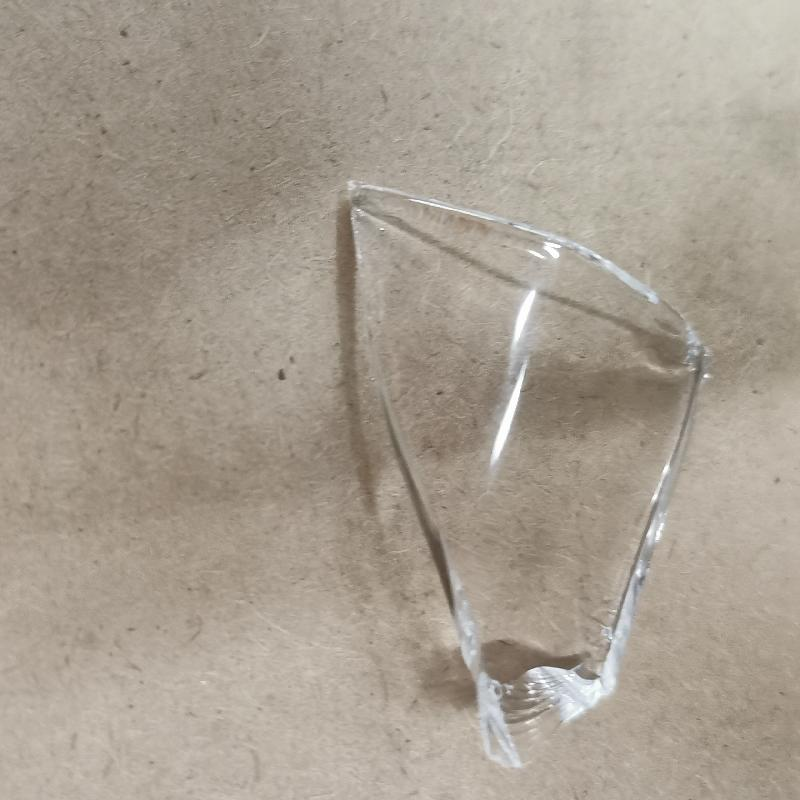glass: (332, 171, 709, 772)
